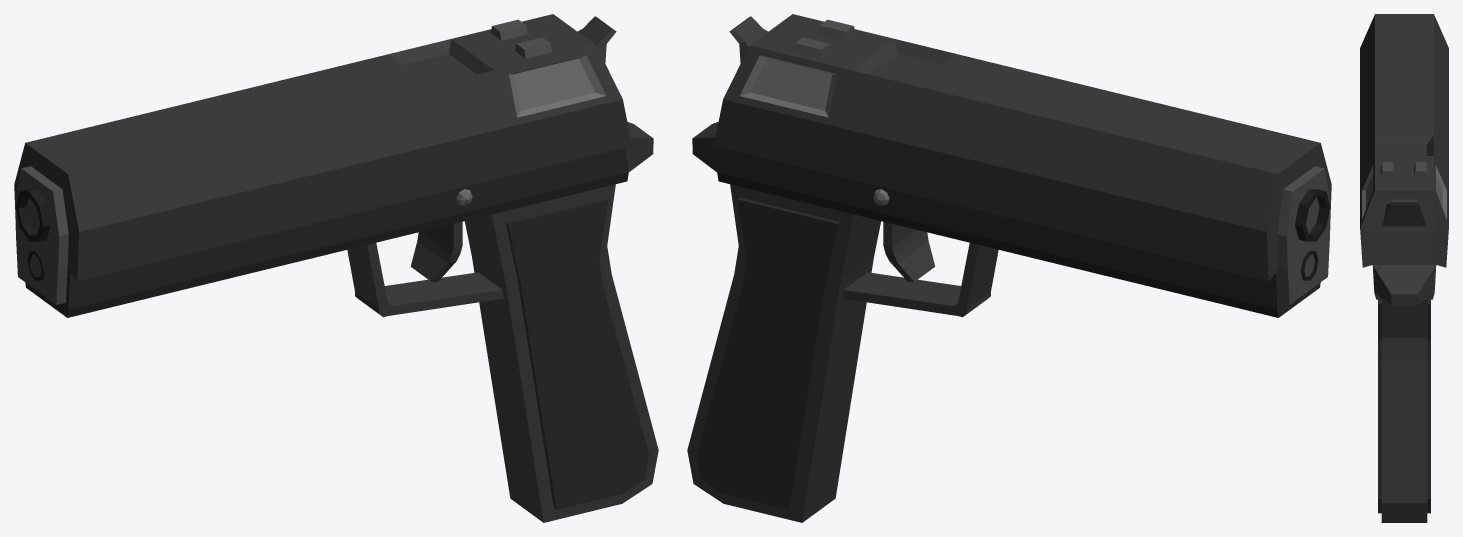
Rendered from gun.fbx.
3 renders of one model, left to right at view 1: azimuth 30°, elevation 25°; view 2: azimuth 150°, elevation 25°; view 3: azimuth 270°, elevation 25°, orthographic. The views are drawn at different scales.
Parts seen in each view (by area): view 1: gun; view 2: gun; view 3: gun.
Boxes of the visible parts, box(x1,y1,x2,y2) form: gun: box(14, 14, 658, 522); gun: box(687, 14, 1331, 522); gun: box(1360, 14, 1448, 522).
Bounding box in the file's own units: 0.3519 × 0.2613 × 0.0644.
Materials: 1 (1 with a texture image).
